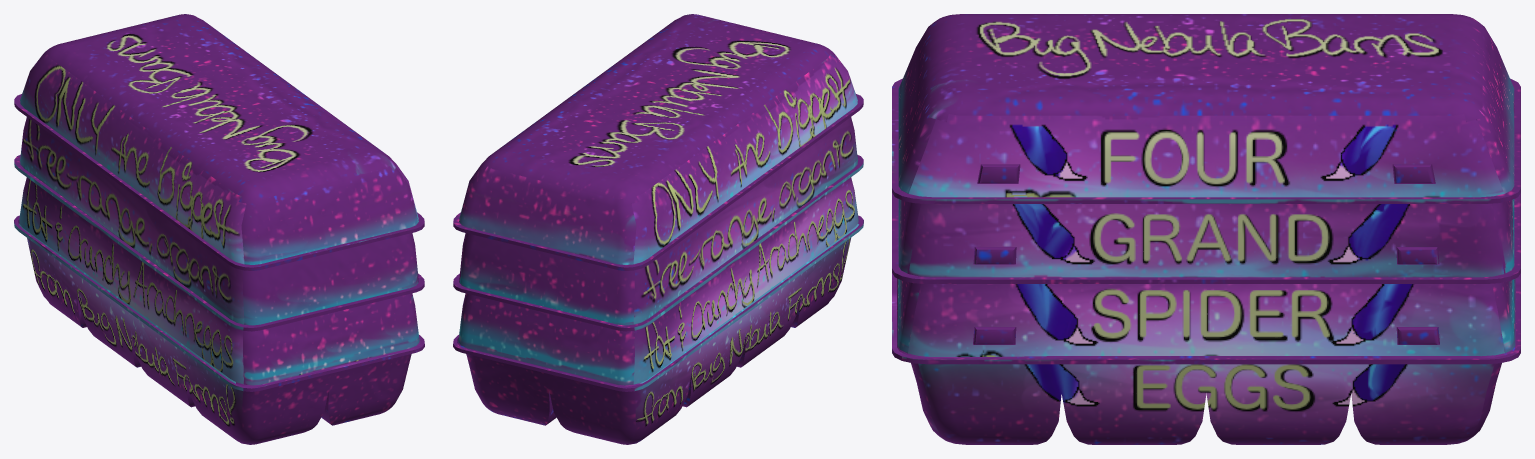
Rendered from spidereggs.fbx.
3 renders of one model, left to right at view 1: azimuth 30°, elevation 25°; view 2: azimuth 150°, elevation 25°; view 3: azimuth 270°, elevation 25°, orthographic. The views are drawn at different scales.
Parts seen in each view (by area): view 1: Spider Eggs; view 2: Spider Eggs; view 3: Spider Eggs.
Boxes of the visible parts, x1,y1,x2,y2 form: Spider Eggs: (14, 14, 424, 444); Spider Eggs: (453, 14, 863, 444); Spider Eggs: (892, 14, 1520, 444).
Bounding box in the file's own units: 4.19 × 1.96 × 2.57.
